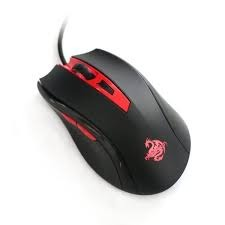mouse: (31, 44, 197, 197)
